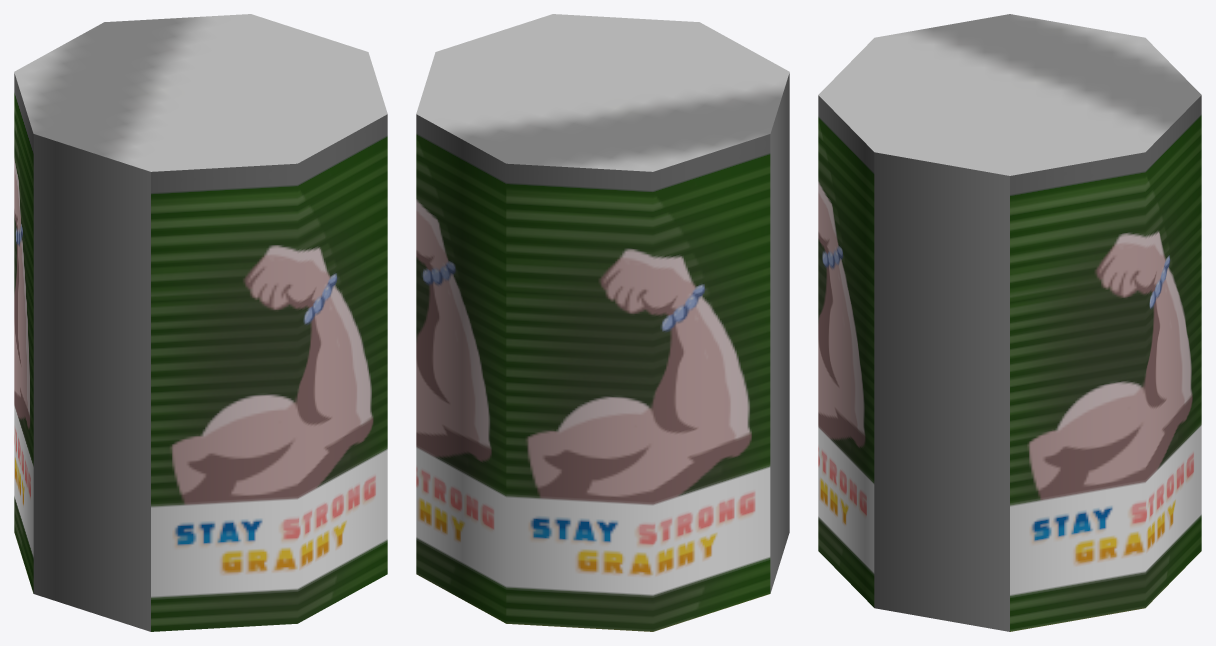
The model's file is spinaci.fbx.
The picture shows the model from 3 angles, left to right: view 1: azimuth 30°, elevation 25°; view 2: azimuth 150°, elevation 25°; view 3: azimuth 270°, elevation 25°; orthographic projection.
Visible parts, largest first — view 1: Cylinder.004; view 2: Cylinder.004; view 3: Cylinder.004.
Boxes of the visible parts, bbox=[...] form: Cylinder.004: bbox=[14, 14, 387, 631]; Cylinder.004: bbox=[416, 14, 789, 631]; Cylinder.004: bbox=[818, 14, 1201, 631].
Bounding box in the file's own units: 9.28 × 12.19 × 9.28.
